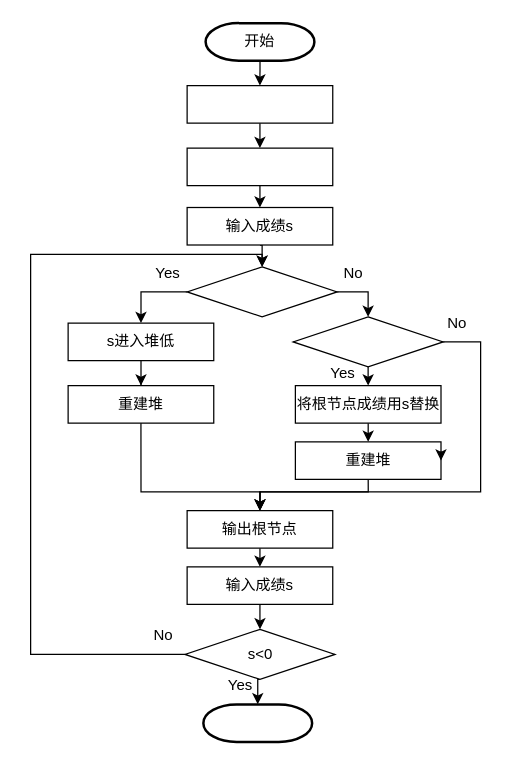
Some shapes in this 519 by 764 pixel diagram are drawn without their labels. Here are the shapes that lost their labels. From the top down, the box of each, then its label:
(186, 84, 333, 123): 输入录取人数k
(186, 147, 333, 186): 初始化二叉堆
(186, 266, 337, 317): 二叉堆大小<k
(292, 316, 443, 367): s>根节点成绩
(202, 702, 313, 742): 结束
